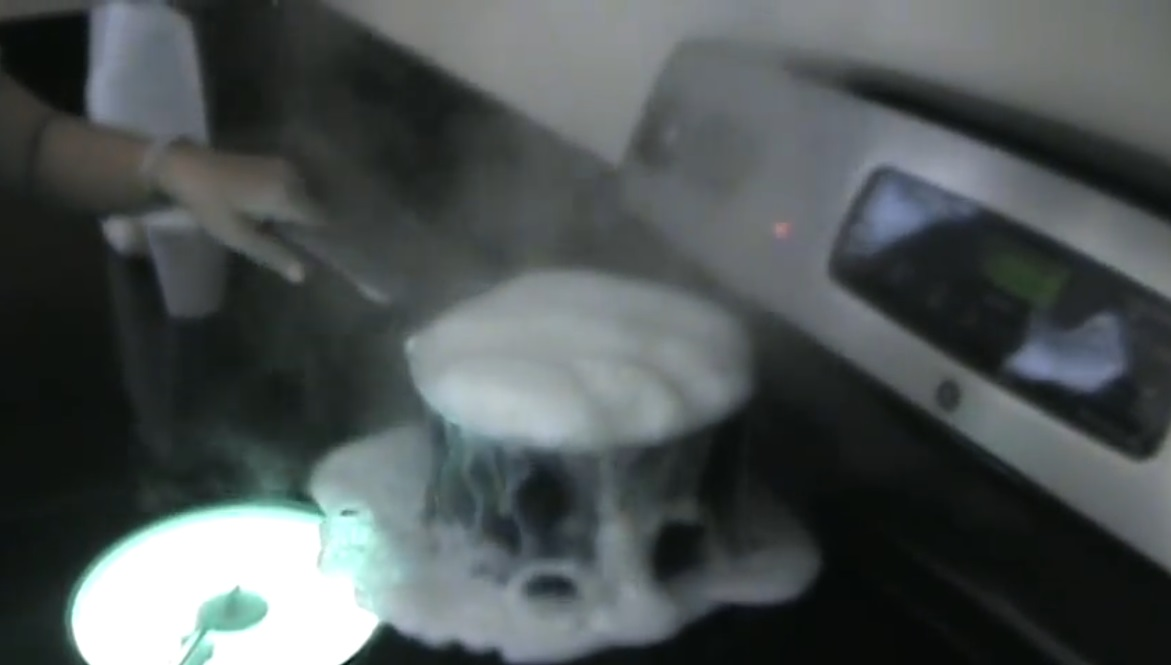Boiled: (295, 257, 848, 646)
